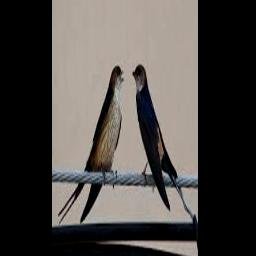Swallow: (57, 66, 124, 222), (132, 64, 193, 219)
